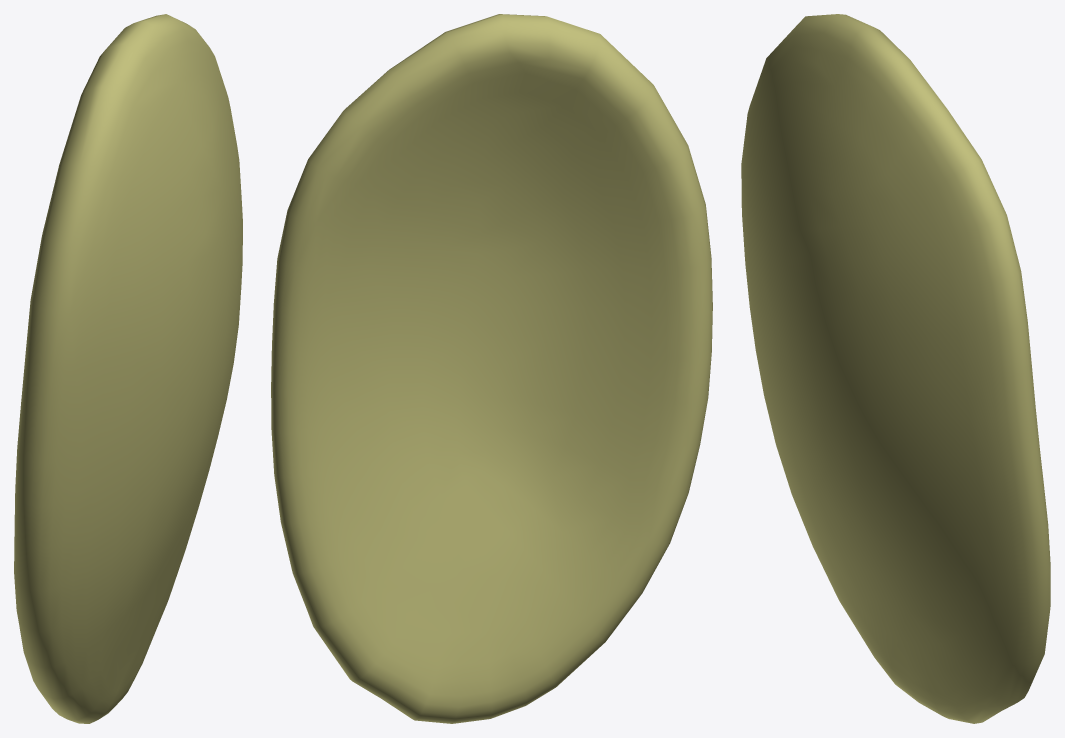
Rendered from BR3_Enamel_Diamond.001.glb.
3 views of the same model, side by side, from view 1: azimuth 30°, elevation 25°; view 2: azimuth 150°, elevation 25°; view 3: azimuth 270°, elevation 25° (orthographic). The views are drawn at different scales.
Visible parts, largest first — view 1: BR3_Enamel_Diamond.001; view 2: BR3_Enamel_Diamond.001; view 3: BR3_Enamel_Diamond.001.
Part boxes in pixels (box(x1,y1,x2,y2)): BR3_Enamel_Diamond.001: box(14, 14, 242, 723); BR3_Enamel_Diamond.001: box(271, 14, 712, 723); BR3_Enamel_Diamond.001: box(741, 14, 1050, 723).
Bounding box in the file's own units: 0.4787 × 0.9846 × 0.4015.
